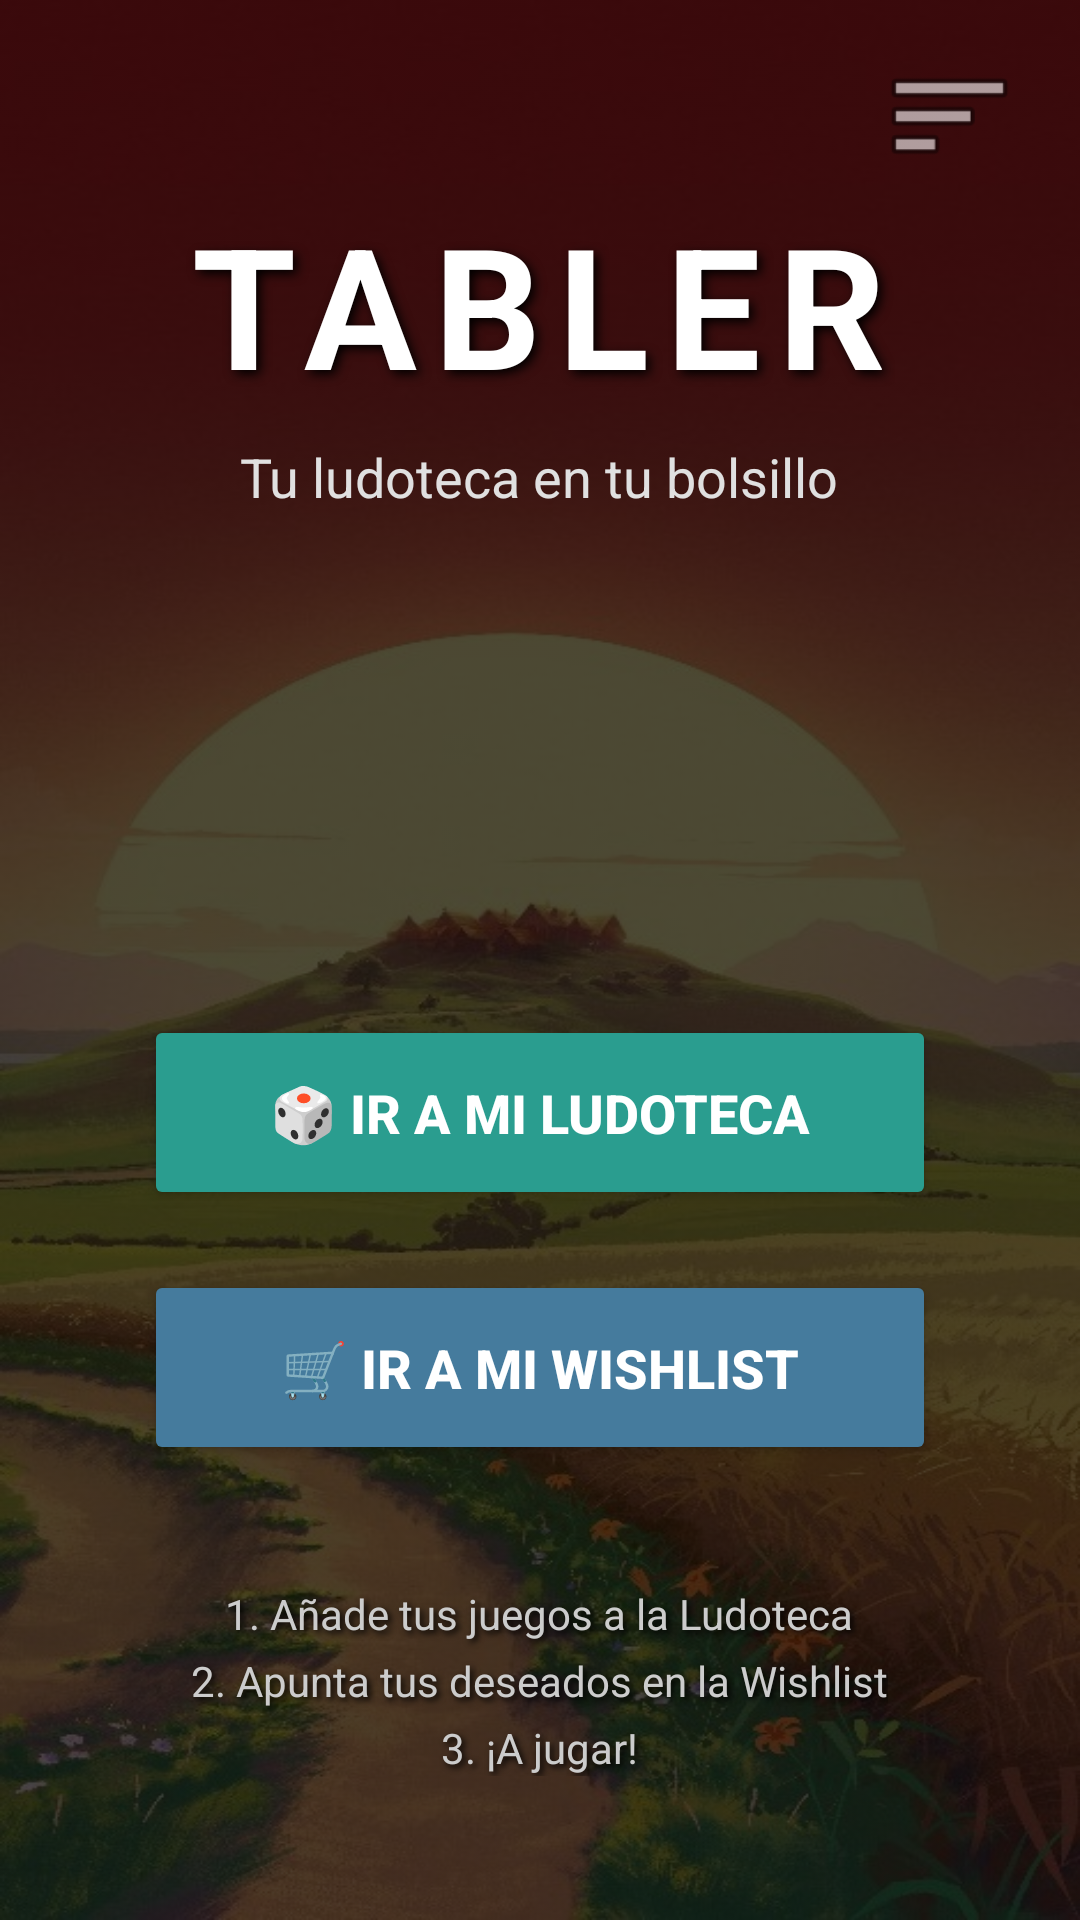

Icons on this 1080 × 1920 Android screen, each with the point to tap as point (x, y):
sort by size: point (949, 116)
